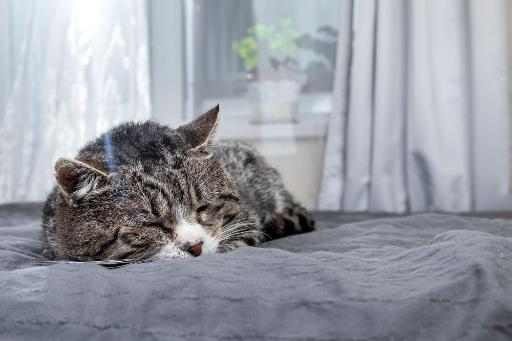cat_sleeping: (42, 105, 314, 264)
